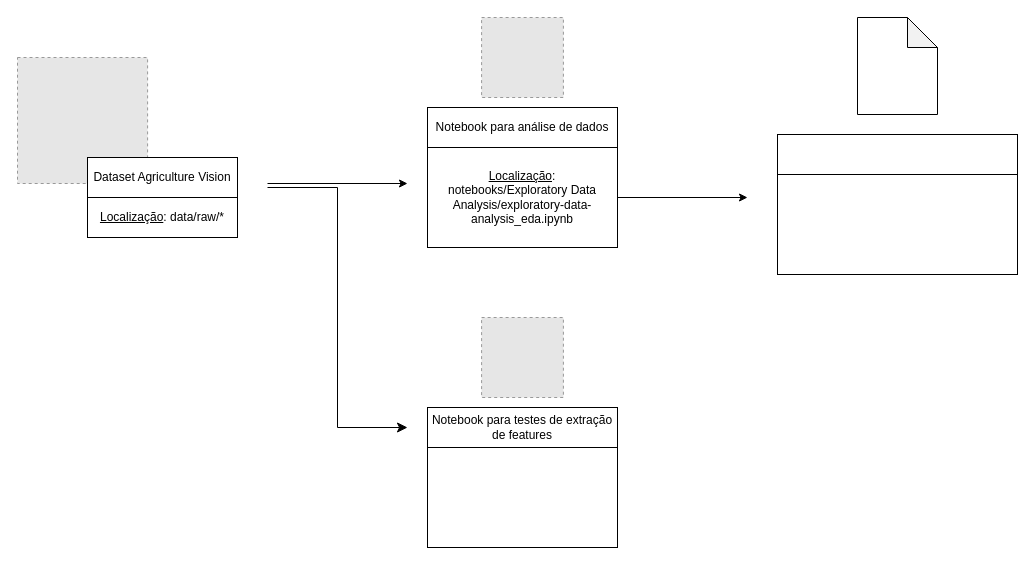
Some shapes in this 1035 by 565 pixel diagram are drawn without their labels. Grey dashed boxes stand in for pictures. Each missing label, with the box of its shape:
Localização : notebooks/Exploratory Data Analysis/artefatos/metricas_dataset.pkl: (776, 174, 1018, 274)
Localização : notebooks/NDVI and NDWI generation/nvdi_ndwi.ipynb: (426, 446, 618, 548)
Output de métricas do dataset: (776, 134, 1018, 174)
